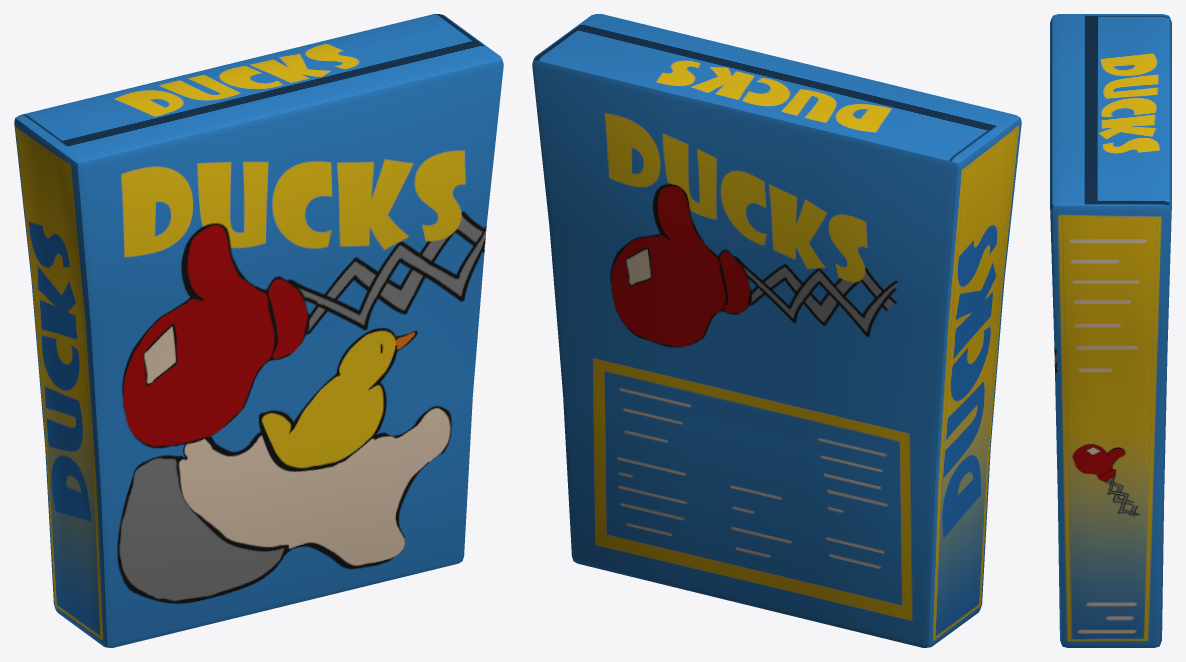
File: cereal box.fbx
The picture shows the model from 3 angles, left to right: view 1: azimuth 30°, elevation 25°; view 2: azimuth 150°, elevation 25°; view 3: azimuth 270°, elevation 25°; orthographic projection. The views are drawn at different scales.
Parts seen in each view (by area): view 1: cereal box; view 2: cereal box; view 3: cereal box.
Boxes of the visible parts, bbox=[...] form: cereal box: bbox=[14, 14, 503, 647]; cereal box: bbox=[532, 14, 1021, 647]; cereal box: bbox=[1050, 14, 1171, 647].
Bounding box in the file's own units: 35.3 × 39.37 × 9.41.
